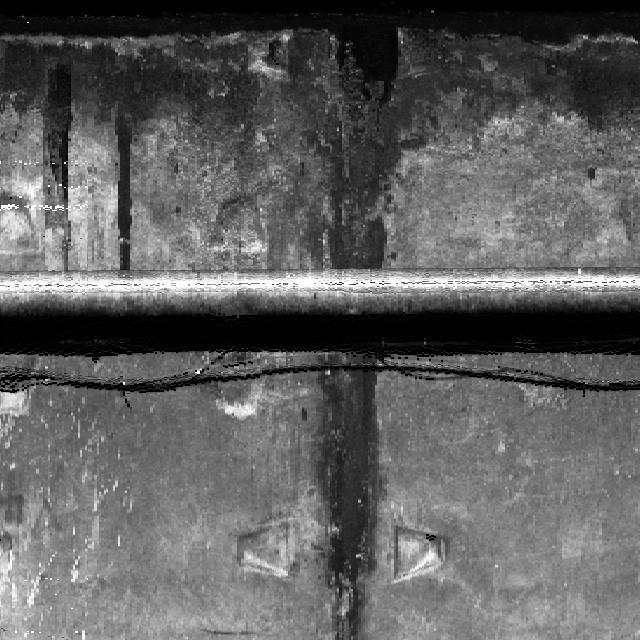leakage: (259, 0, 423, 266), (428, 0, 634, 150), (305, 347, 378, 639), (0, 0, 252, 44), (30, 59, 76, 225), (110, 102, 145, 271)
